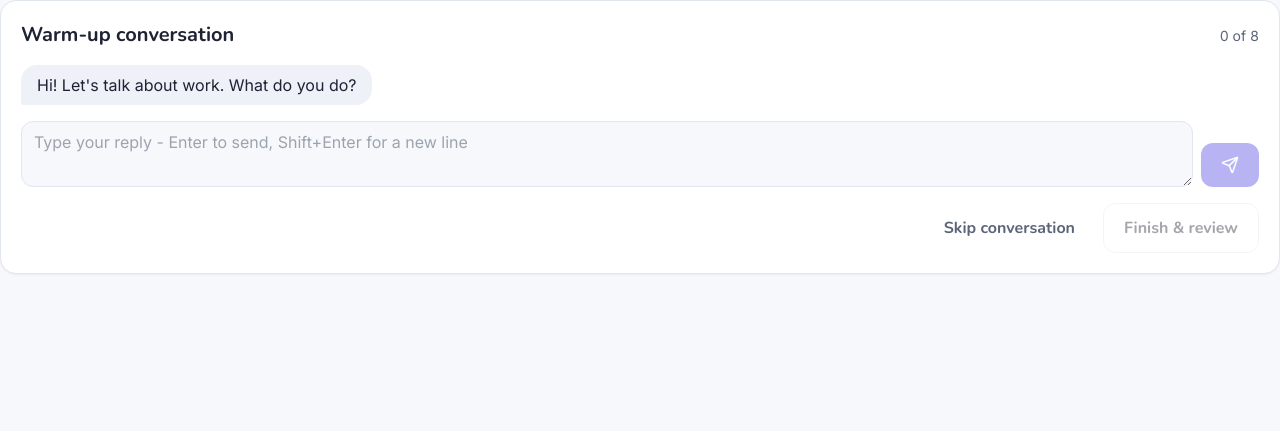
Test: ConversationPanel › strips the connection-lost marker even when it arrives split across chunks
In the text box named "Your message": (607, 154) [21,121,1193,187], type "Hello"
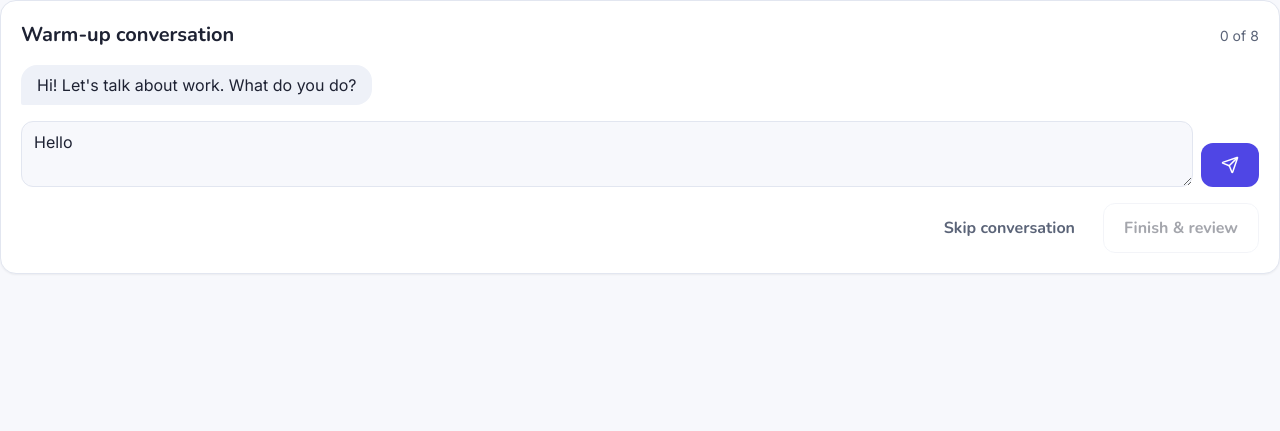
Press Enter in the text box named "Your message", box [21,121,1193,187]
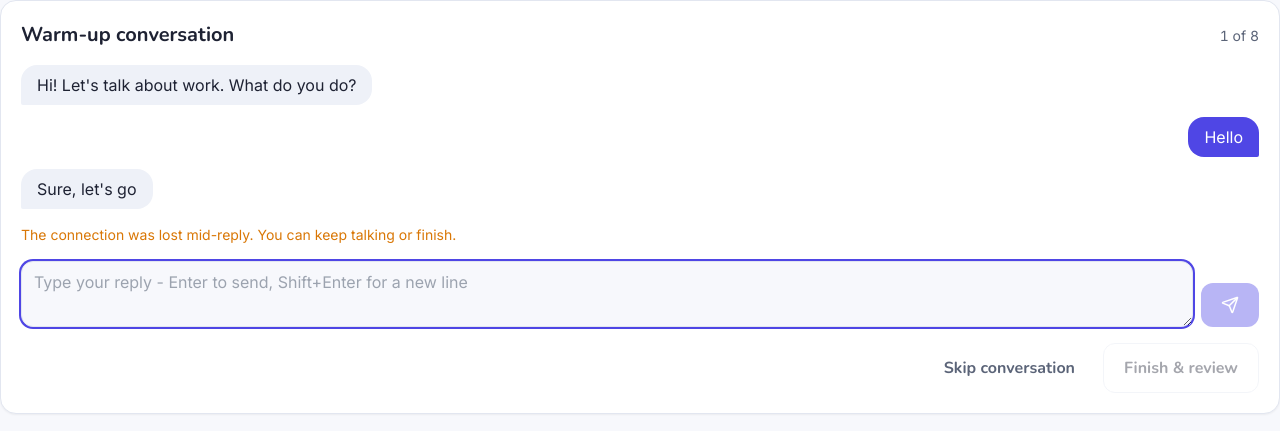
Check: the text box named "Your message" is enabled, box [21,261,1193,327]
Check: the text "Sure, let's go" is shown, box [21,169,152,209]
Check: the message shows "connection was lost", box [21,226,456,243]
